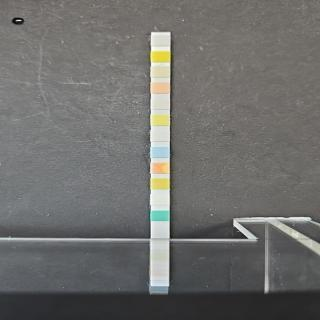mark: (150, 66, 170, 78), (150, 130, 170, 142), (150, 146, 170, 158), (150, 162, 170, 174), (150, 210, 170, 222), (150, 115, 170, 126), (152, 178, 170, 190), (150, 194, 168, 206), (151, 83, 170, 94), (152, 36, 170, 46), (152, 52, 170, 62), (152, 99, 170, 109)
